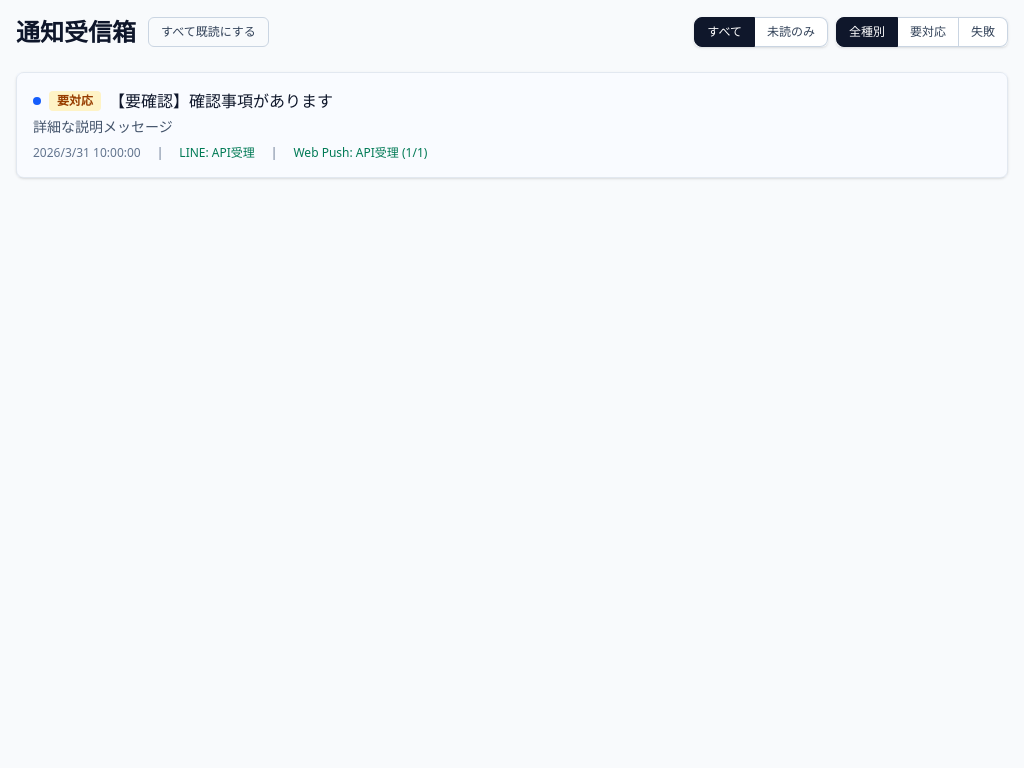
Test case: NotificationsPage › opens detail modal and marks notification as read
Note: Click list item to open detail
Step 1. Click the heading "【要確認】確認事項があります" → x=221, y=101, box [109,89,333,113]
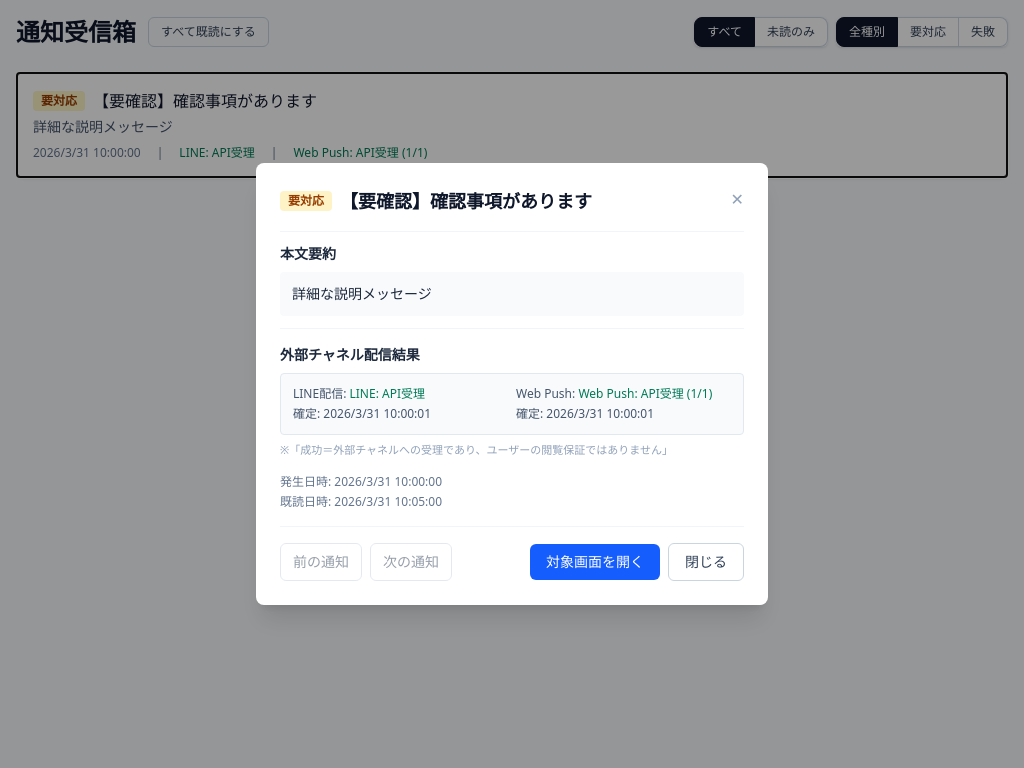
Result: the text "外部チャネル配信結果" is shown at [280,345,420,364]
Result: the link "対象画面を開く" is shown at [530,544,660,580]
